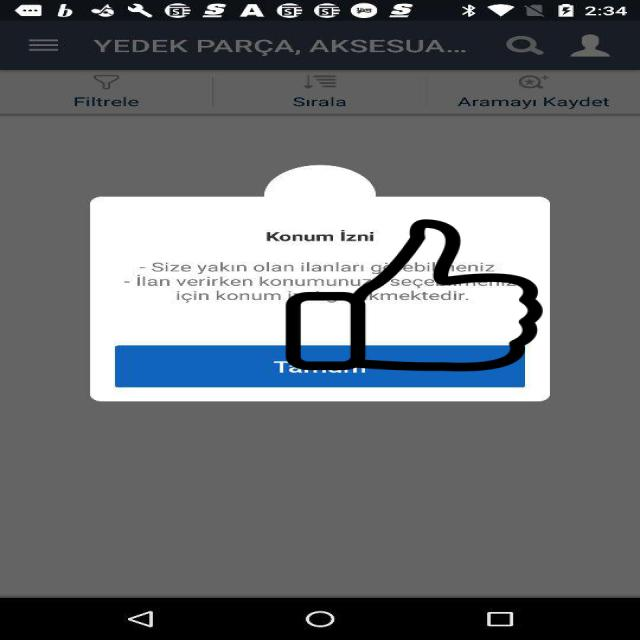privacy zuckering: (282, 220, 546, 372)
